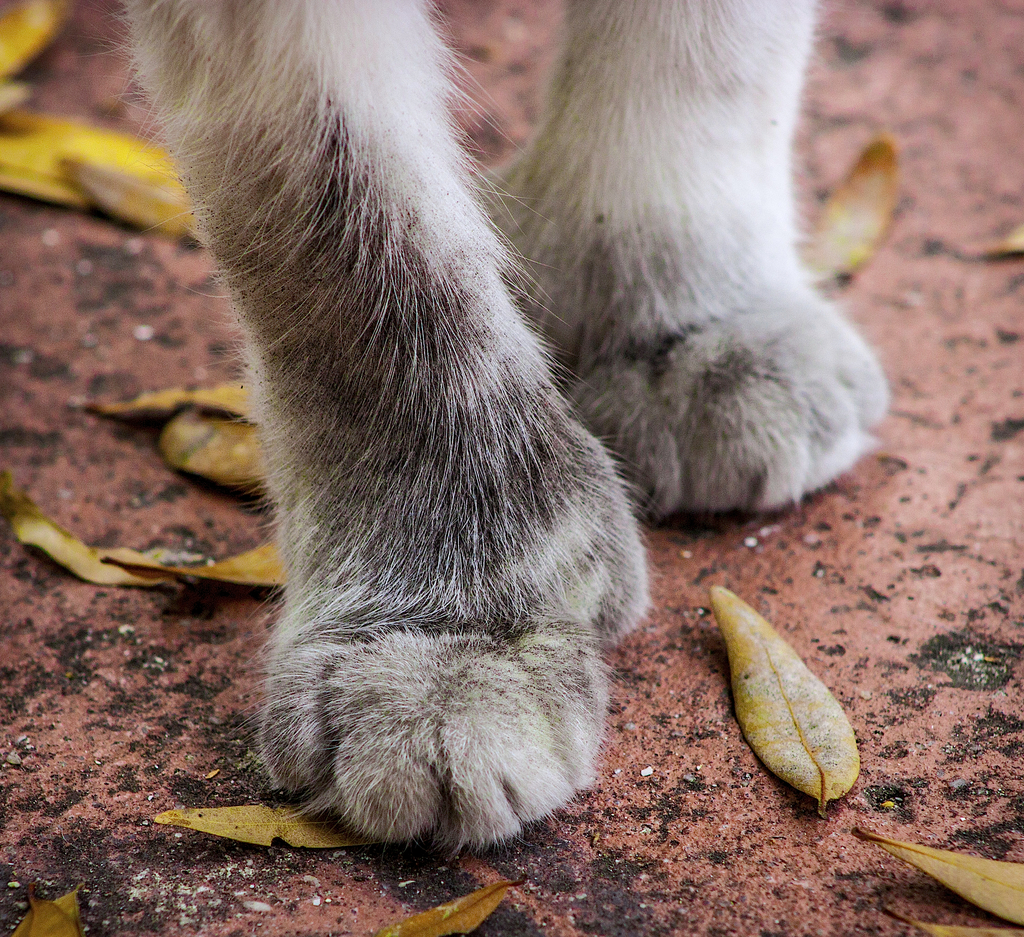Animal: (115, 0, 895, 850)
